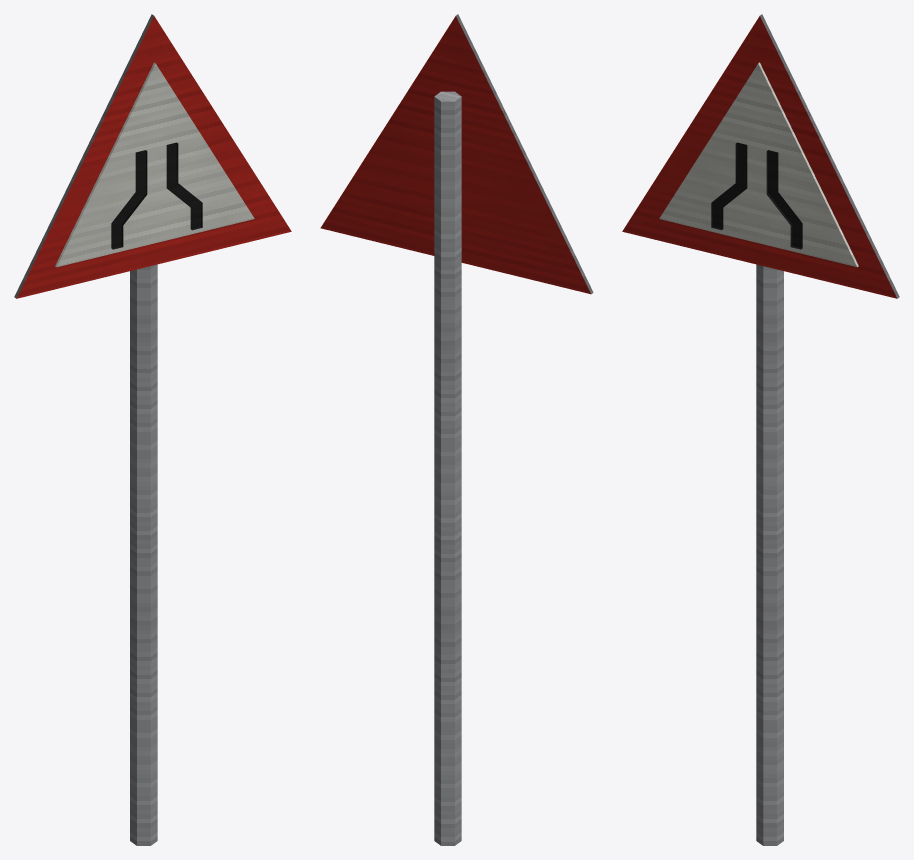
Rendered from placa_estreitamento.glb.
3 views of the same model, side by side, from view 1: azimuth 30°, elevation 25°; view 2: azimuth 150°, elevation 25°; view 3: azimuth 330°, elevation 25° (orthographic).
Parts seen in each view (by area): view 1: Inteiro; view 2: Inteiro, Peca_01; view 3: Inteiro.
Boxes of the visible parts, x1,y1,x2,y2 form: Inteiro: (14, 14, 291, 845); Inteiro: (327, 14, 593, 845); Peca_01: (320, 39, 560, 285); Inteiro: (622, 14, 899, 845).
Size of the model in its own units: 0.8 by 2.31 by 0.105.
Materials: 1 (1 with a texture image).
